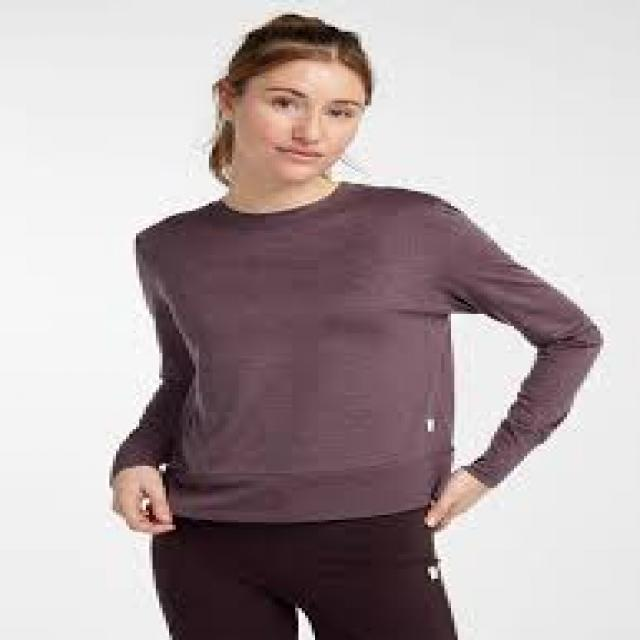plain: (99, 180, 592, 519)
